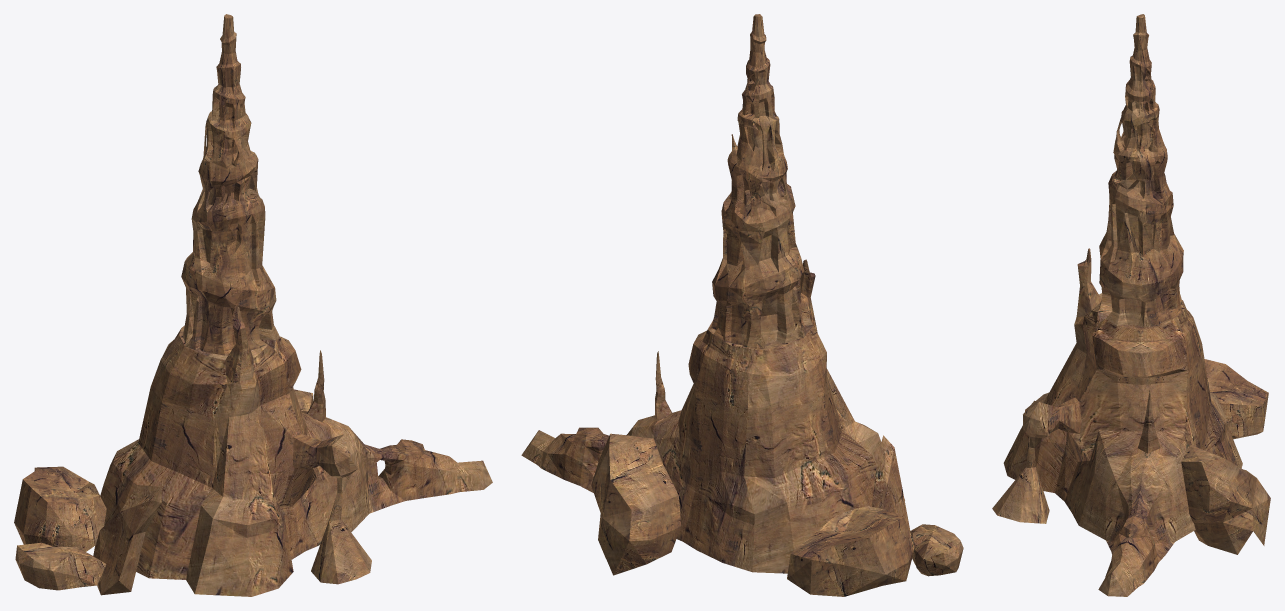
Rendered from eaw_rockSpire2.glb.
3 renders of one model, left to right at view 1: azimuth 30°, elevation 25°; view 2: azimuth 150°, elevation 25°; view 3: azimuth 270°, elevation 25°, orthographic. The views are drawn at different scales.
Visible parts, largest first — view 1: W_geonosis_Tower01_ALT0_0; view 2: W_geonosis_Tower01_ALT0_0; view 3: W_geonosis_Tower01_ALT0_0.
Part boxes in pixels (x1,y1,x2,y2): W_geonosis_Tower01_ALT0_0: [14, 14, 492, 596]; W_geonosis_Tower01_ALT0_0: [521, 14, 963, 596]; W_geonosis_Tower01_ALT0_0: [992, 14, 1270, 596].
Bounding box in the file's own units: 54.73 × 62.19 × 31.73.
Materials: 1 (1 with a texture image).
